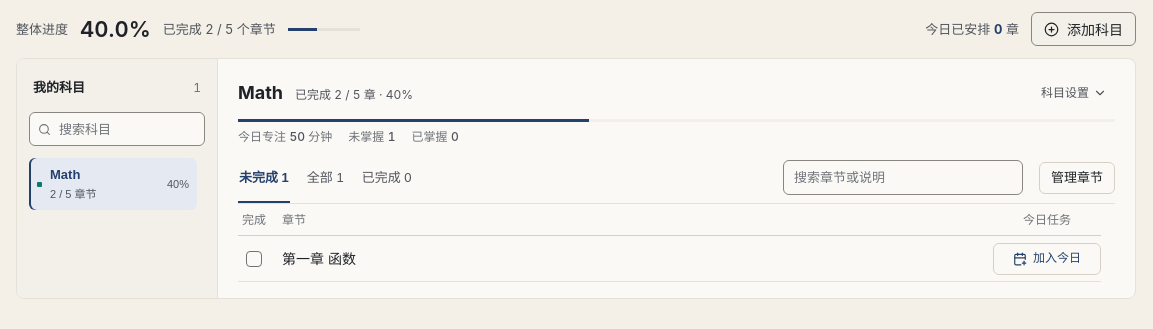
Test: StudyProgress detailed subject chapters › does not show a false added state when task find fails
Click the button with test id "chapter-add-today-1". click: [1047, 258]
box: 993,242 -> 1101,274
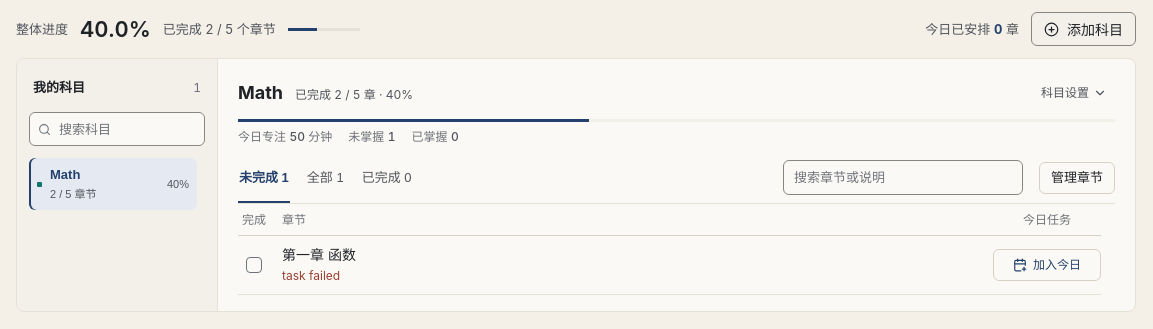
Now the message "task failed" is shown, box 282,268 -> 340,283
